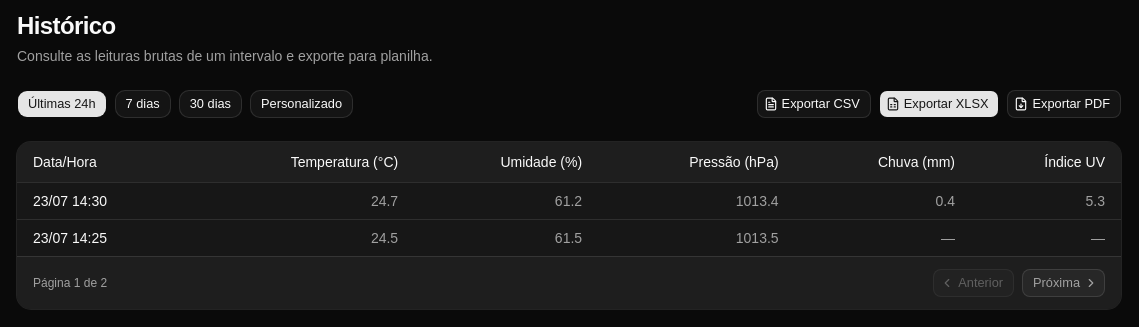
Test case: HistoryPage › HIST-02: paginação avança para a próxima página com um novo from/to/page
Check: the text "24.7" is shown, box [188, 182, 414, 219]
Click the button "Próxima". click: click(1064, 282)
box: [1022, 268, 1105, 296]
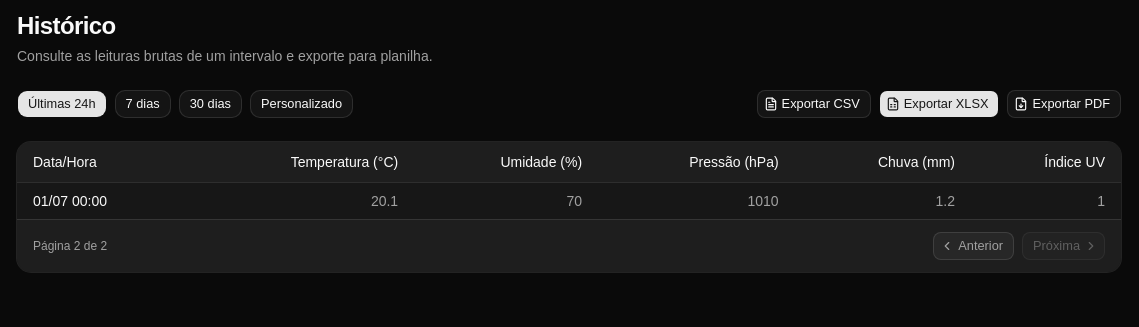
Check: the text "20.1" is shown, box [188, 182, 414, 218]
